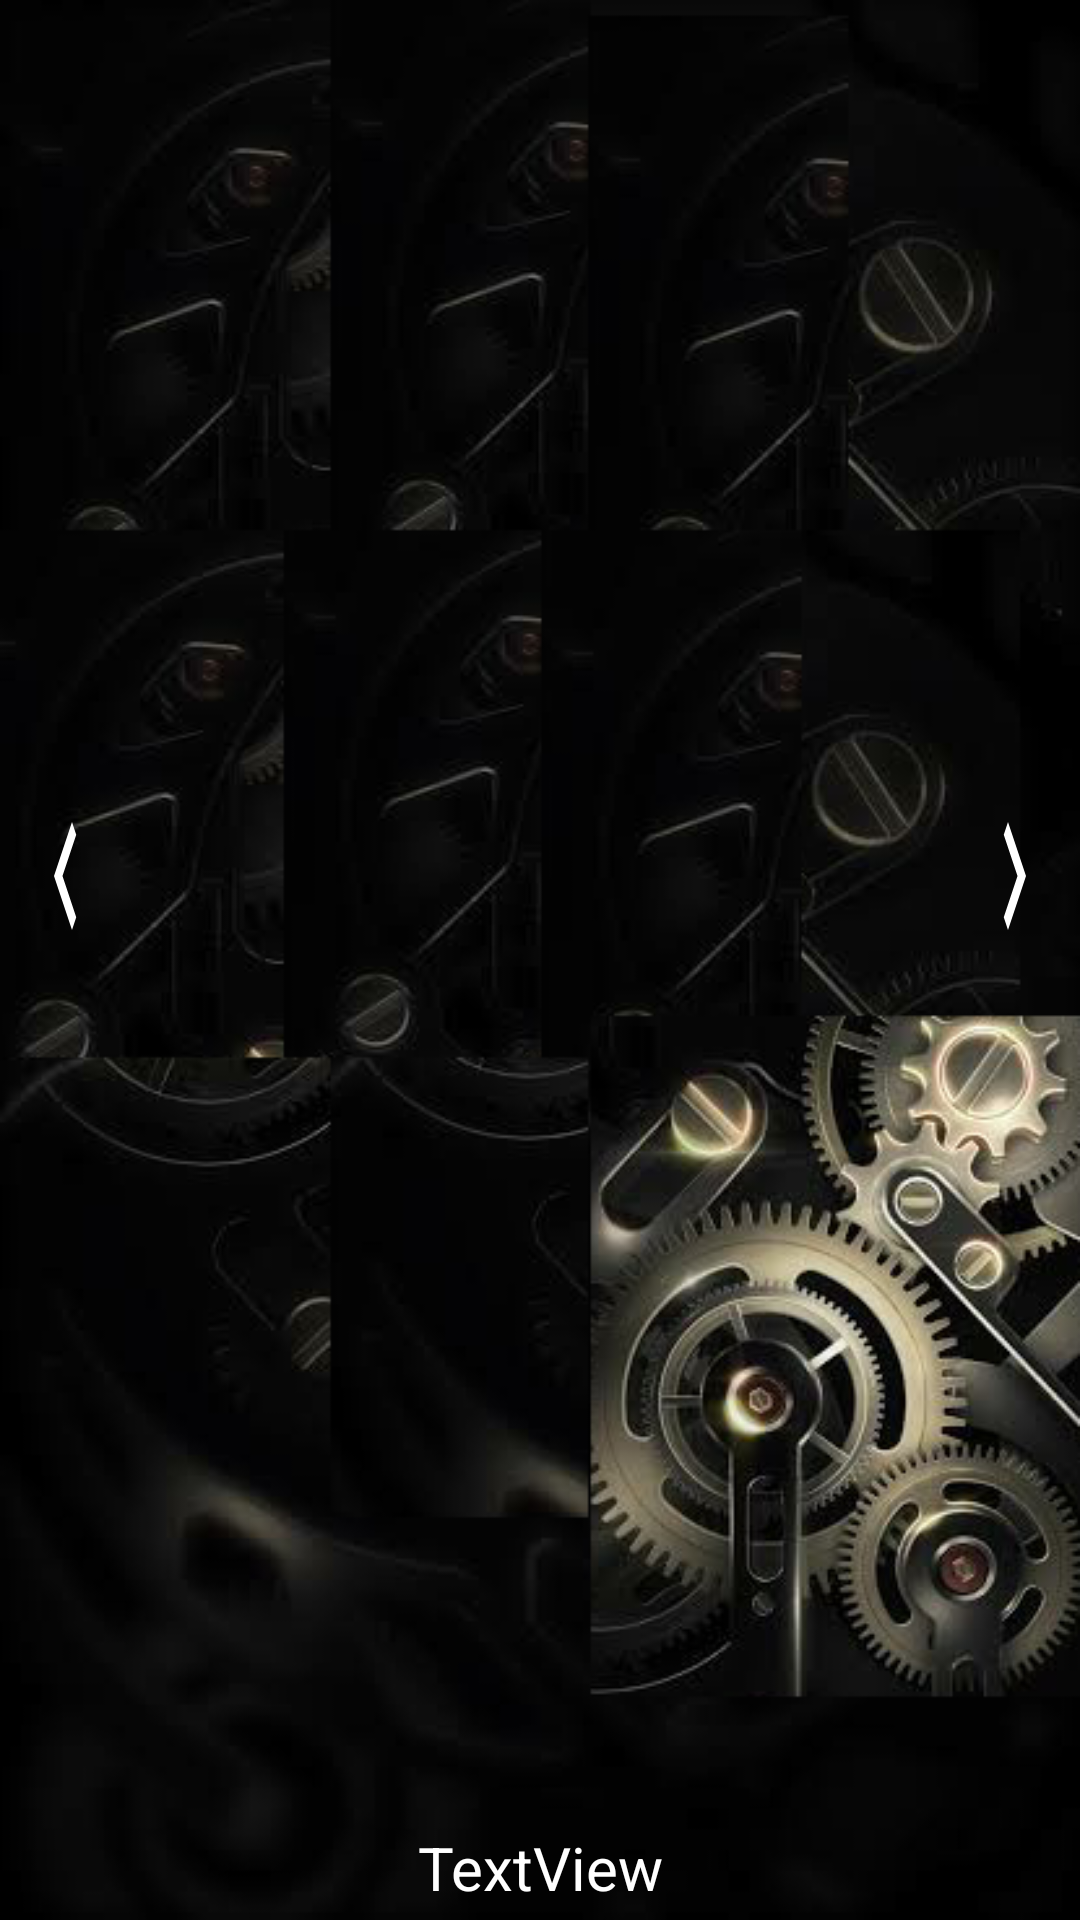

Named icons in this screenshot (1080 x 1920) and their bounding boxes, {"x1": x1, "y1": y1, "x2": x2, "y2": y2}:
chevron left: {"x1": 54, "y1": 814, "x2": 102, "y2": 976}
chevron right: {"x1": 1003, "y1": 822, "x2": 1026, "y2": 930}
